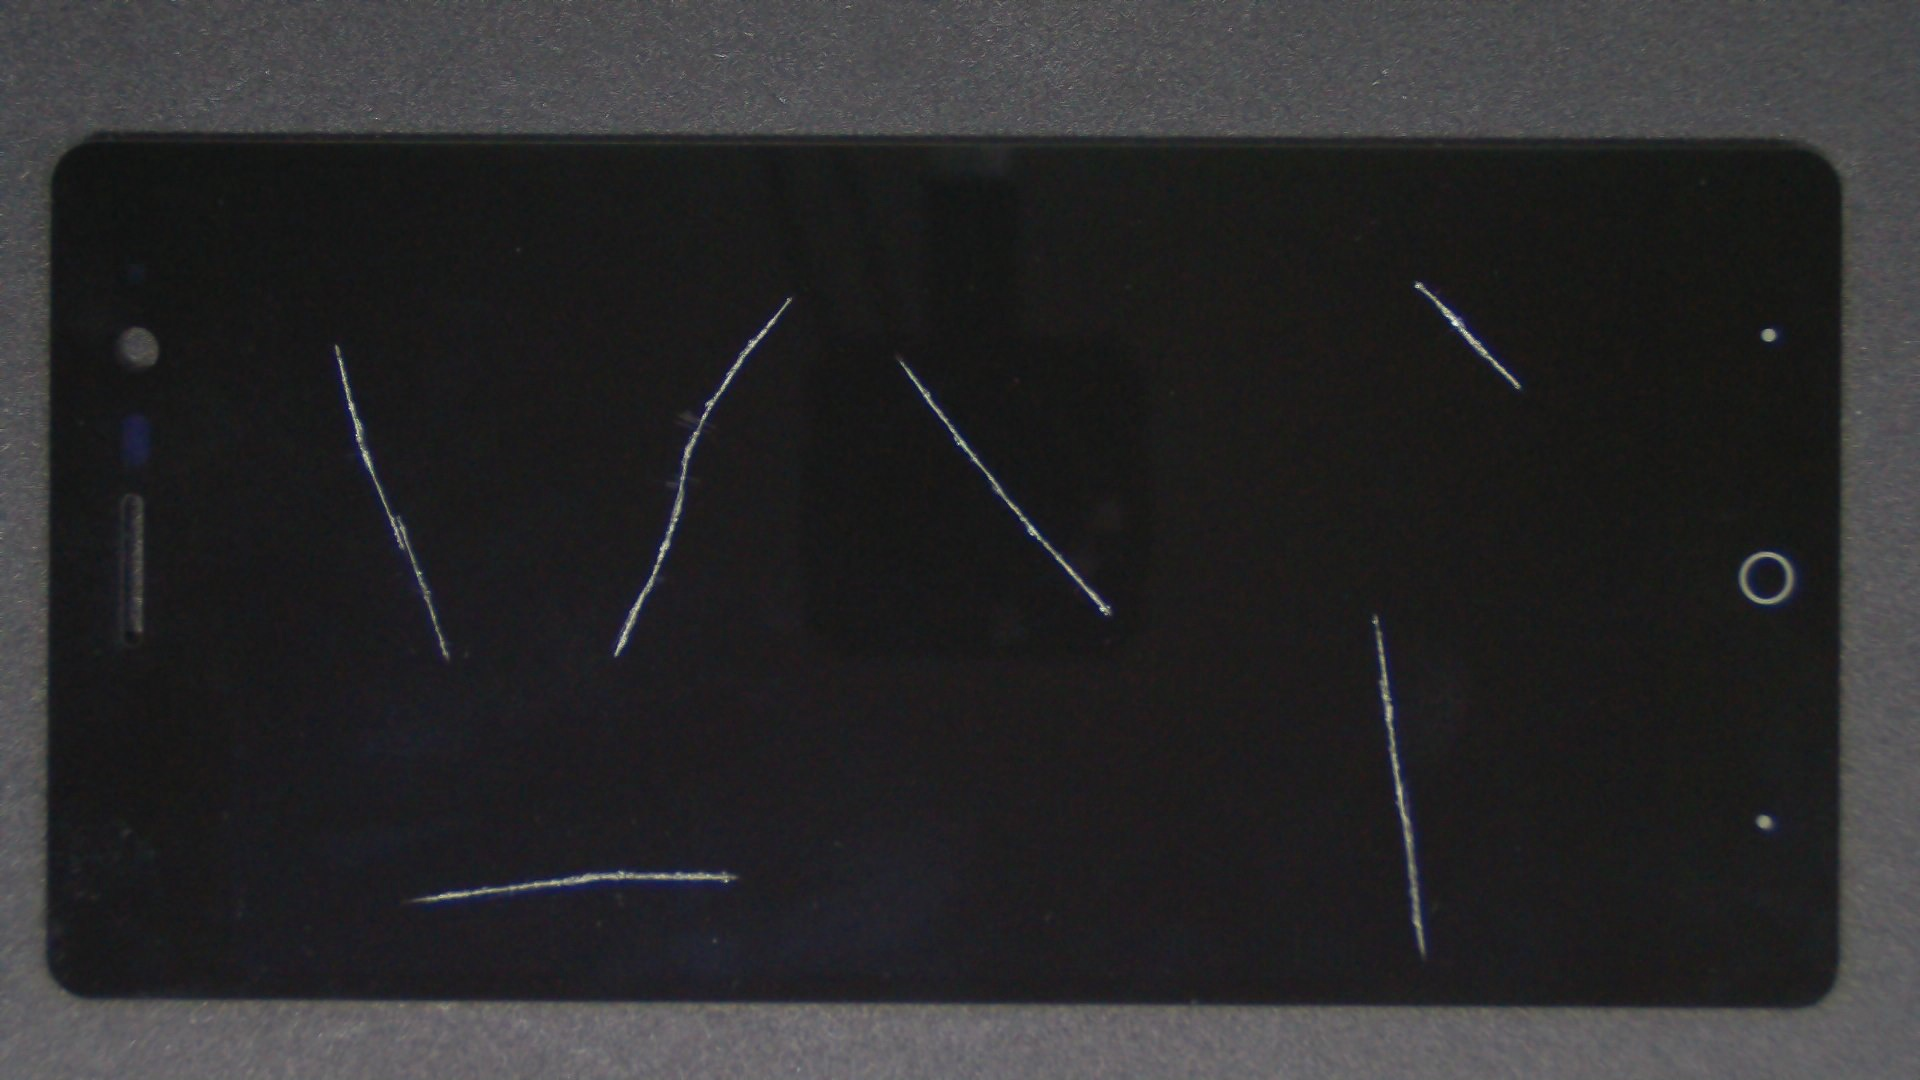oil: (688, 306, 1920, 919), (310, 433, 926, 1080), (709, 138, 1920, 419), (450, 177, 1348, 533), (396, 148, 1184, 444), (169, 171, 504, 516)
